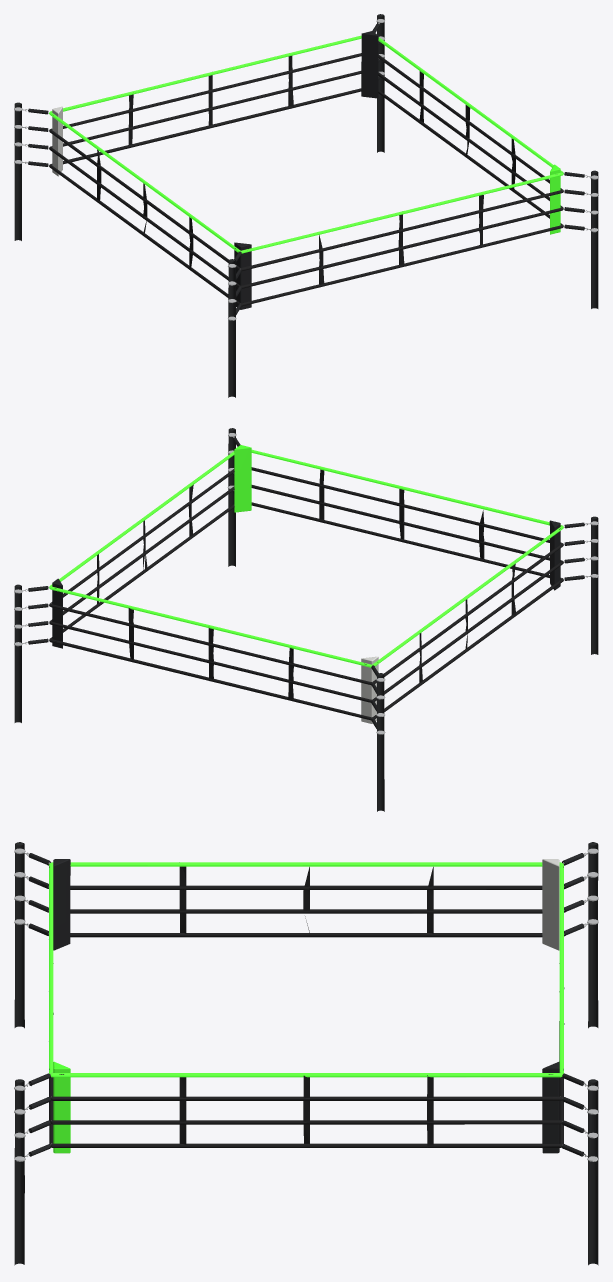
The model's file is ring_top_lo.glb.
The picture shows the model from 3 angles, top to bottom: view 1: azimuth 30°, elevation 25°; view 2: azimuth 150°, elevation 25°; view 3: azimuth 270°, elevation 25°; orthographic projection. The views are drawn at different scales.
Size of the model in its own units: 5.51 by 1.96 by 5.63.
